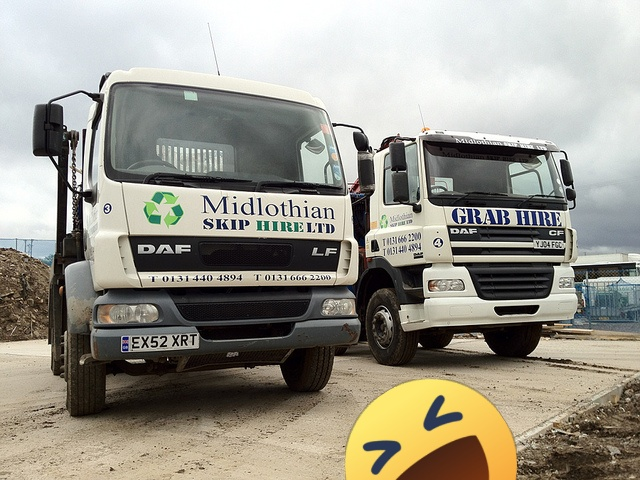haha: (345, 379, 517, 480)
